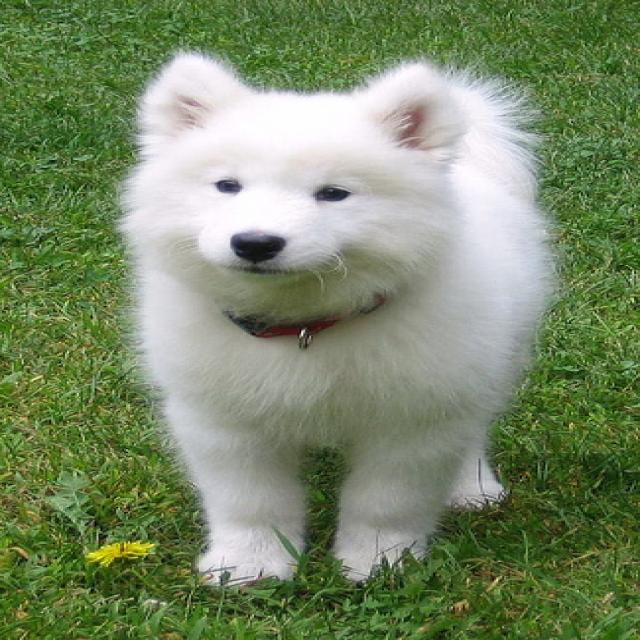dog-samoyed: (100, 44, 573, 598)
